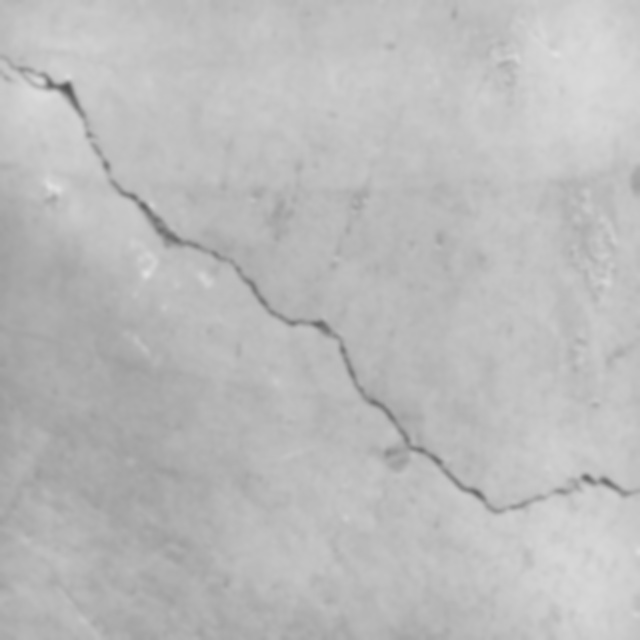SurfaceCrack: (1, 11, 640, 545)
